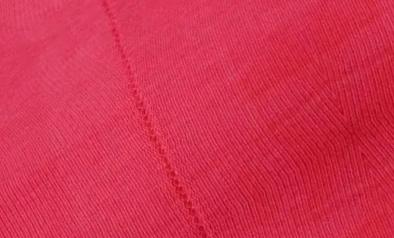slub: (101, 0, 217, 237)
